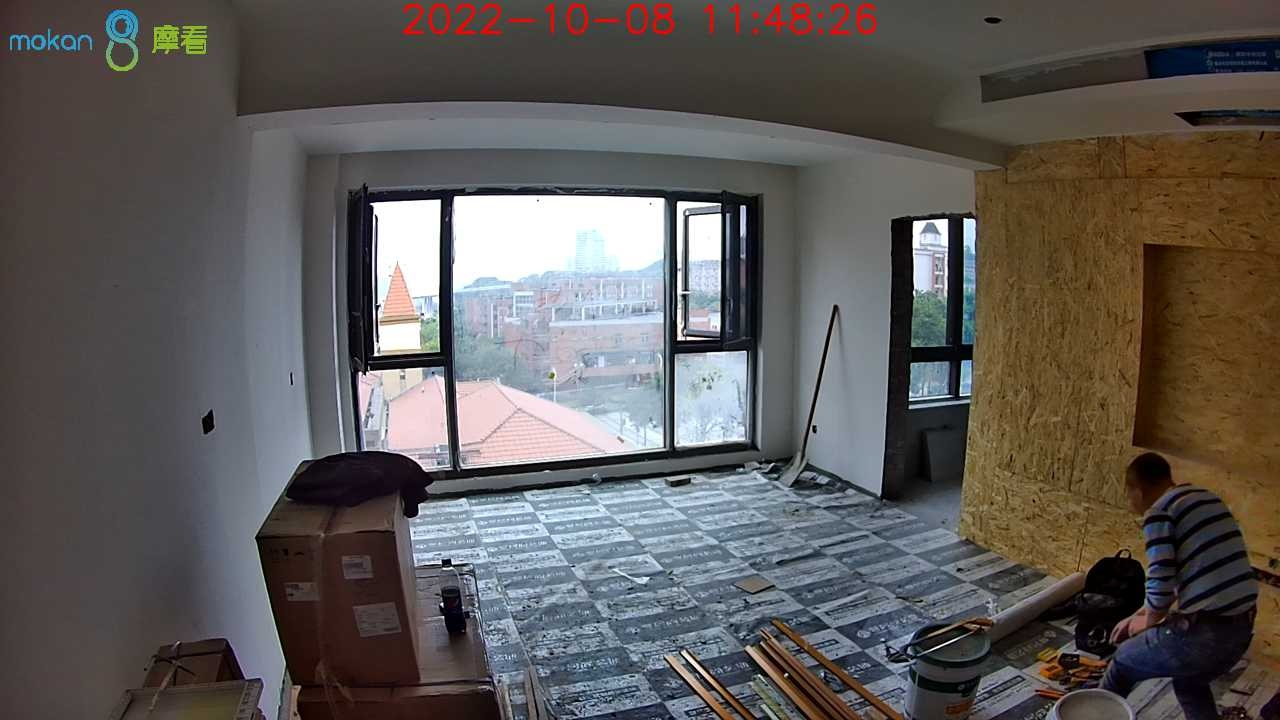people: (1098, 452, 1257, 720)
window: (346, 187, 755, 467)
